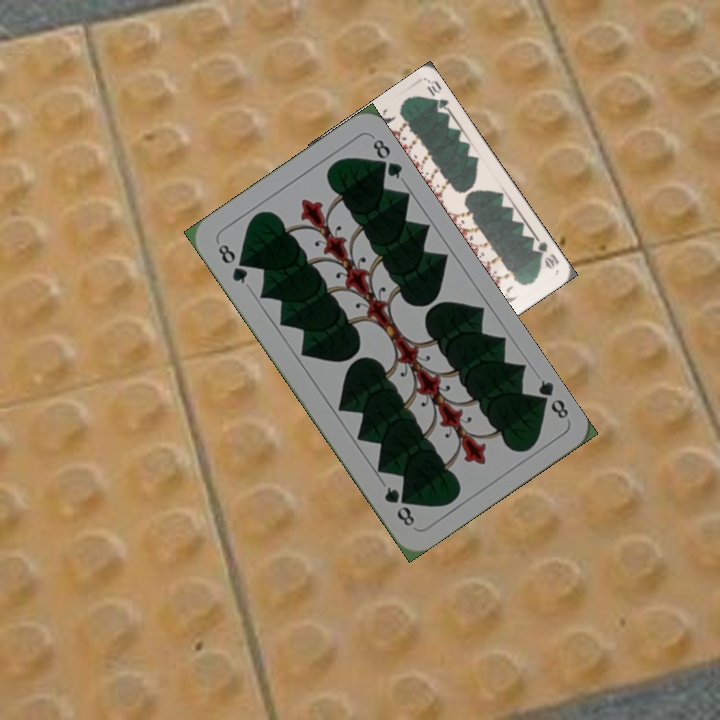G10: (528, 234, 561, 272)
G8: (529, 375, 572, 422), (213, 239, 251, 287)
